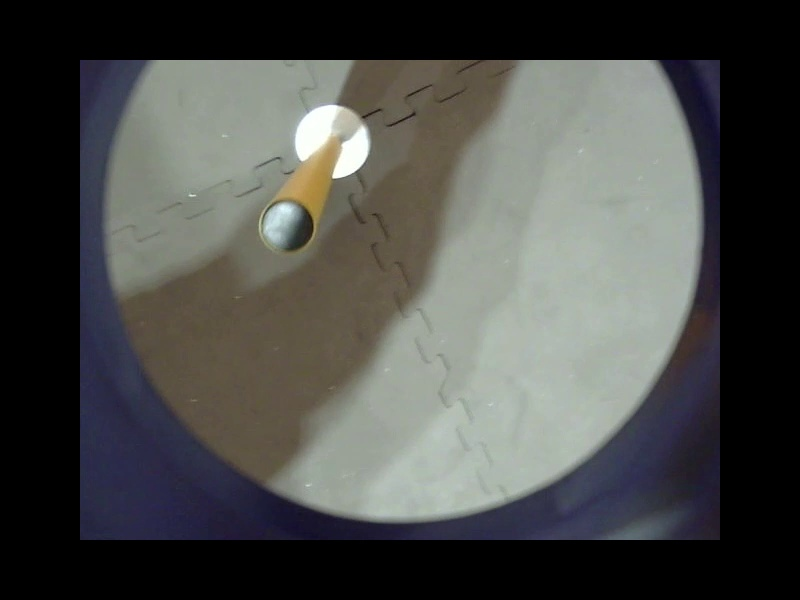tip: (256, 188, 323, 259)
